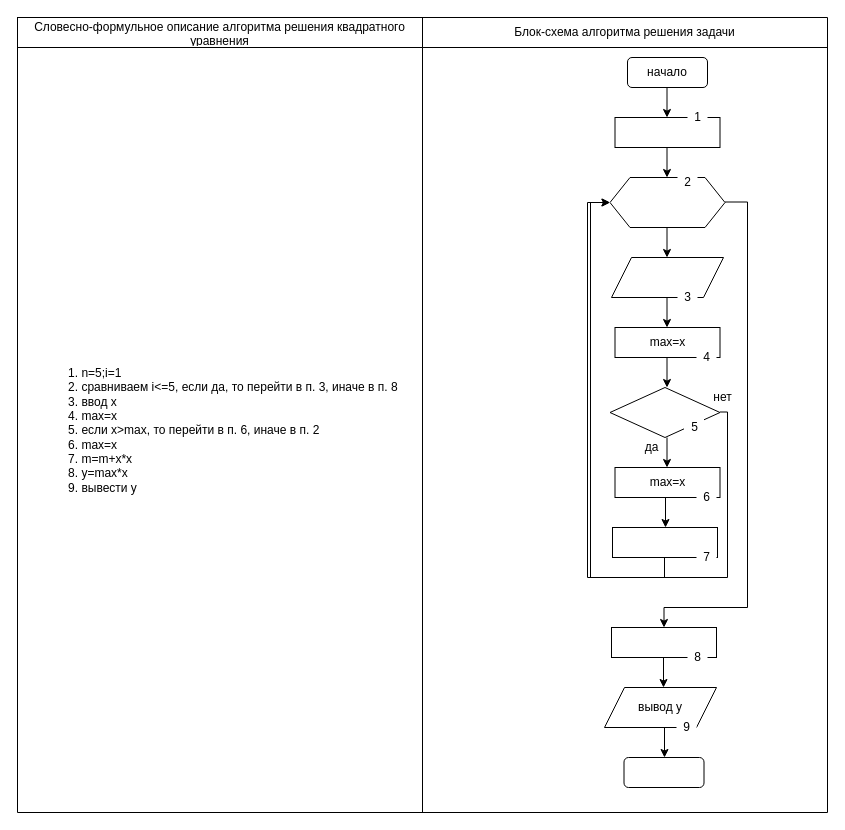
This 845x830 diagram has some shape labels left out. The shapes that lost their labels are listed below. From the top down, each one's box as (x1, y1, x2, y2) in pixels, then its label:
(614, 116, 720, 148): n=5 i=1
(609, 176, 725, 228): i=0;5
(610, 256, 724, 298): ввод x
(609, 386, 720, 438): x>max
(612, 526, 718, 558): m=m+x*x
(610, 626, 716, 658): y=max*m
(623, 756, 704, 788): конец
